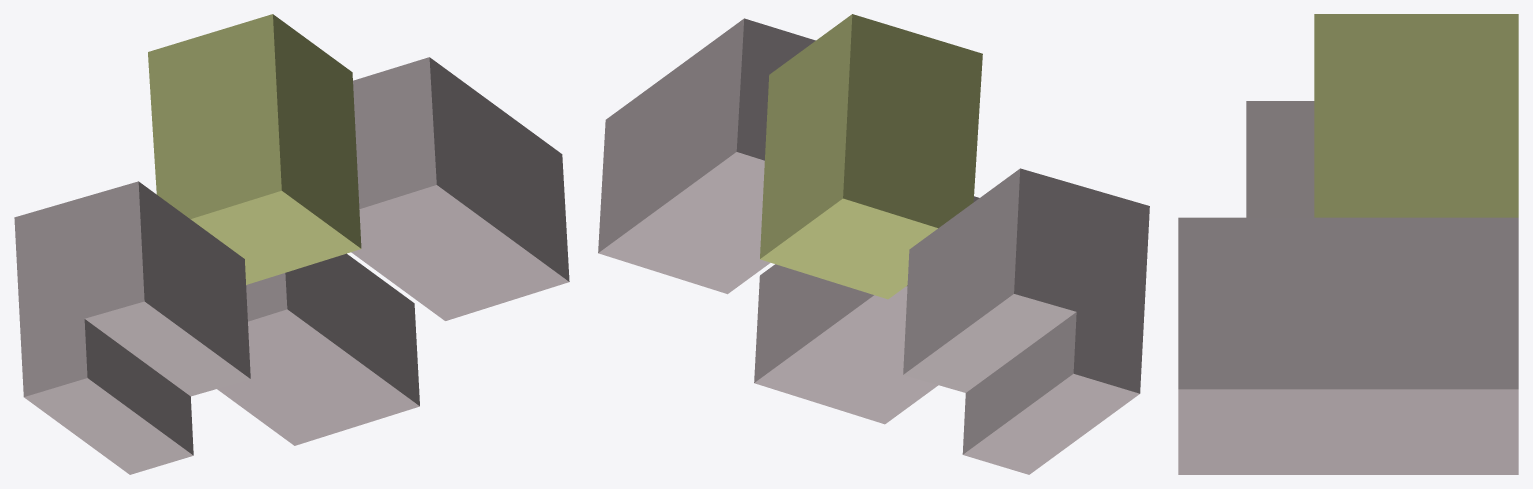
The picture shows the model from 3 angles, left to right: view 1: azimuth 30°, elevation 25°; view 2: azimuth 150°, elevation 25°; view 3: azimuth 270°, elevation 25°; orthographic projection. The views are drawn at different scales.
Parts seen in each view (by area): view 1: 0_1_2_3_3_3_0_3_3_1; view 2: 0_1_2_3_3_3_0_3_3_1; view 3: 0_1_2_3_3_3_0_3_3_1.
Boxes of the visible parts, x1,y1,x2,y2 form: 0_1_2_3_3_3_0_3_3_1: (14,14,569,474); 0_1_2_3_3_3_0_3_3_1: (598,14,1149,474); 0_1_2_3_3_3_0_3_3_1: (1178,14,1518,474).
Bounding box in the file's own units: 27.55 × 20.1 × 15.
